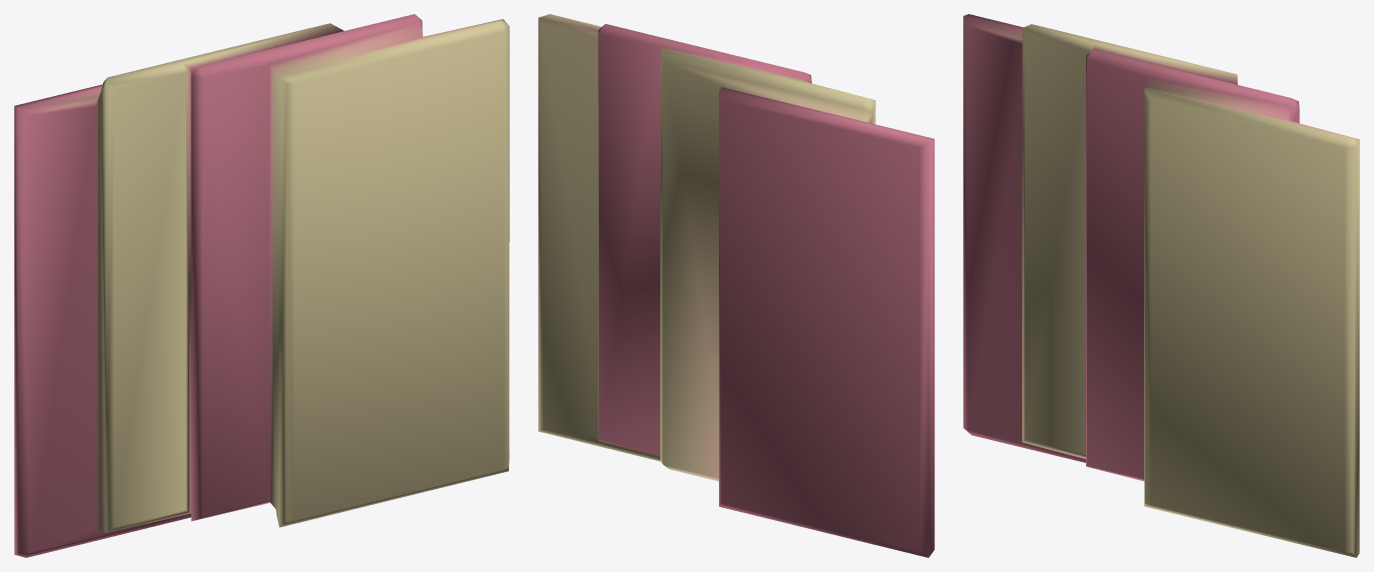
The model's file is xap_ve.glb.
3 renders of one model, left to right at view 1: azimuth 30°, elevation 25°; view 2: azimuth 150°, elevation 25°; view 3: azimuth 330°, elevation 25°, orthographic. The views are drawn at different scales.
Parts seen in each view (by area): view 1: xap_ve; view 2: xap_ve; view 3: xap_ve.
Part boxes in pixels (x1=…): xap_ve: x1=14, y1=14, x2=509, y2=557; xap_ve: x1=538, y1=14, x2=934, y2=557; xap_ve: x1=963, y1=14, x2=1359, y2=557.
Bounding box in the file's own units: 0.0953 × 0.0932 × 0.016.
